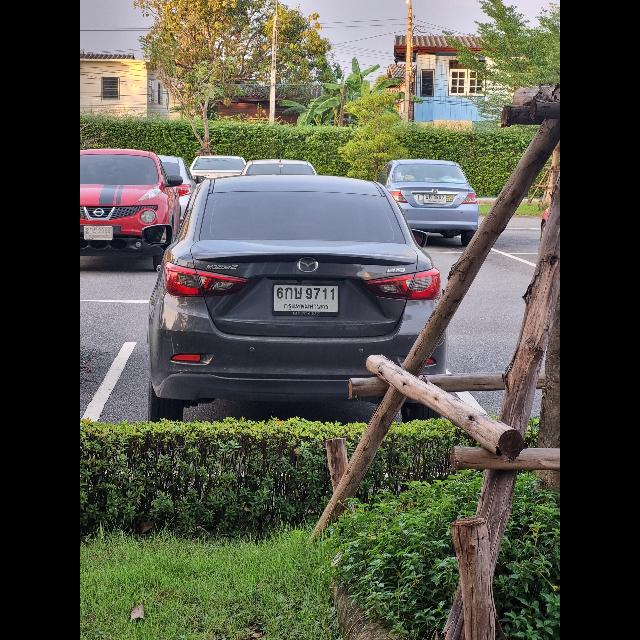licenseplate: (272, 281, 340, 317), (84, 225, 115, 241), (424, 193, 446, 204)
